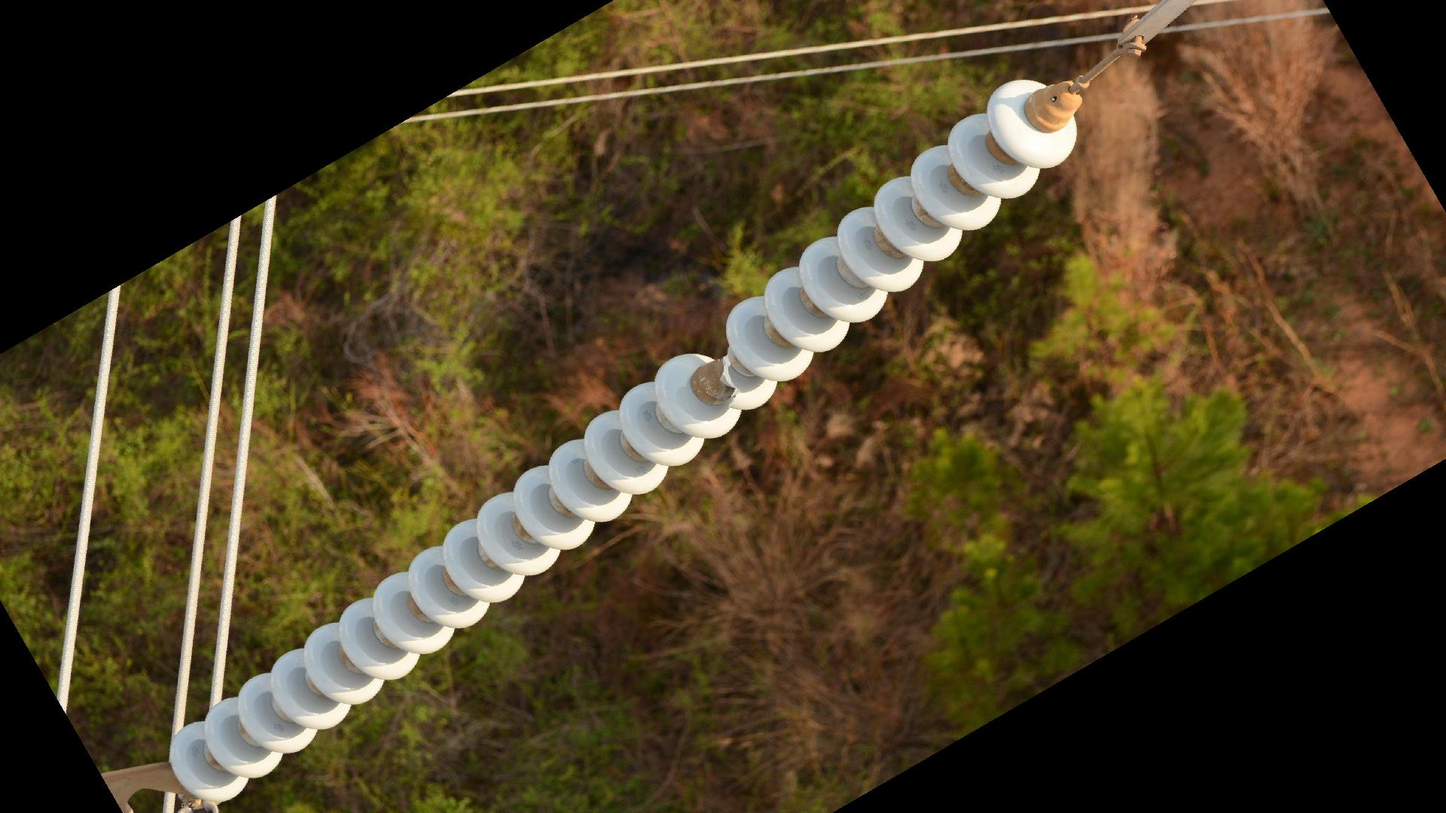insulator: (161, 74, 1084, 806)
insulator_breakage: (718, 347, 743, 413)
